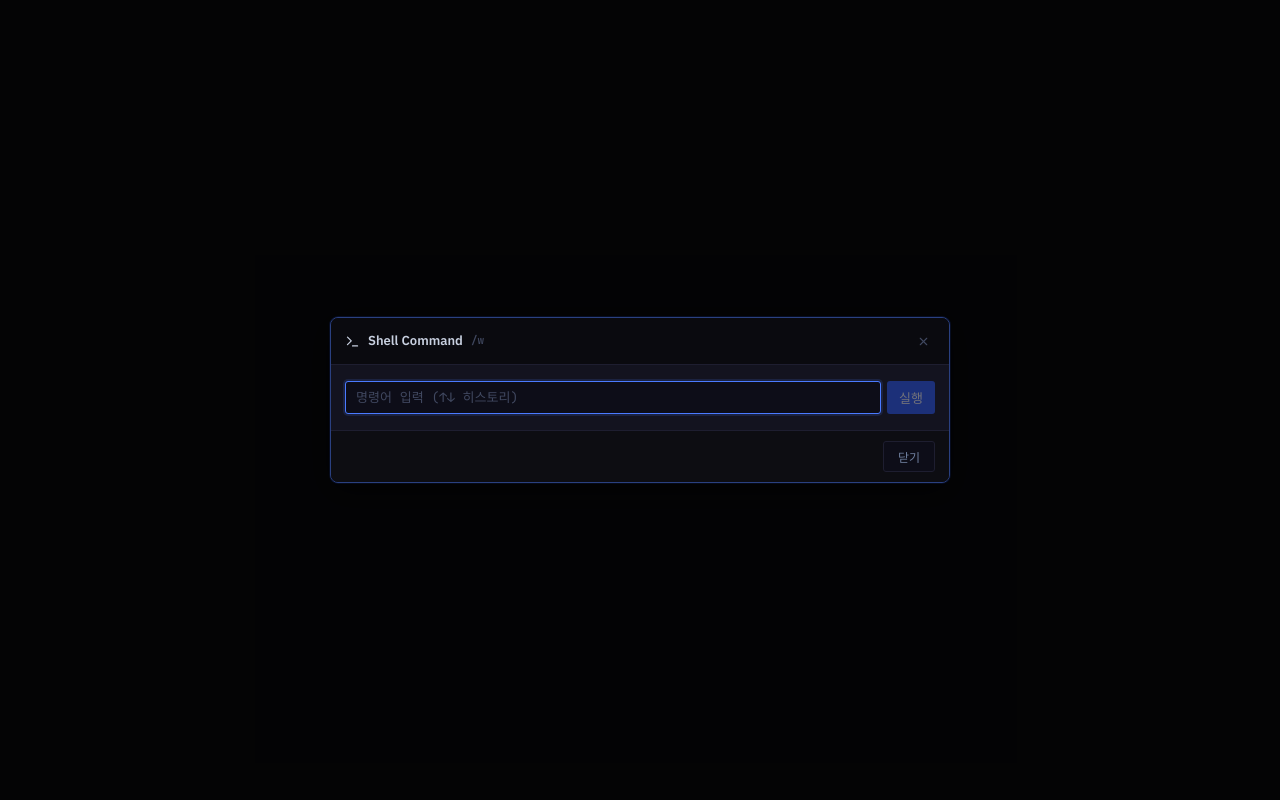
Test: ShellCommandDialog 커버리지 › SH-03: 빈 출력은 "(출력 없음)"
In the field: point(613, 398) [345, 381, 881, 414], type "true"
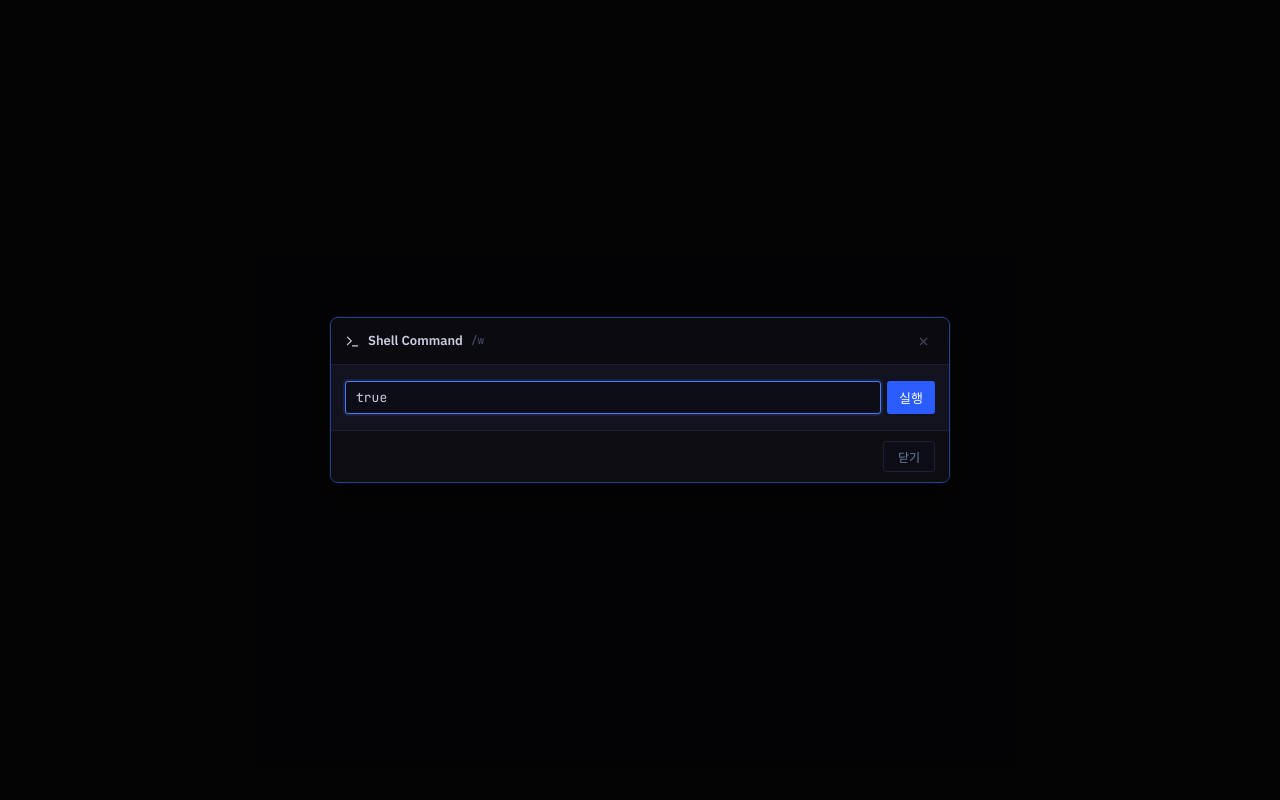
Submit the form, box [331, 365, 949, 482]
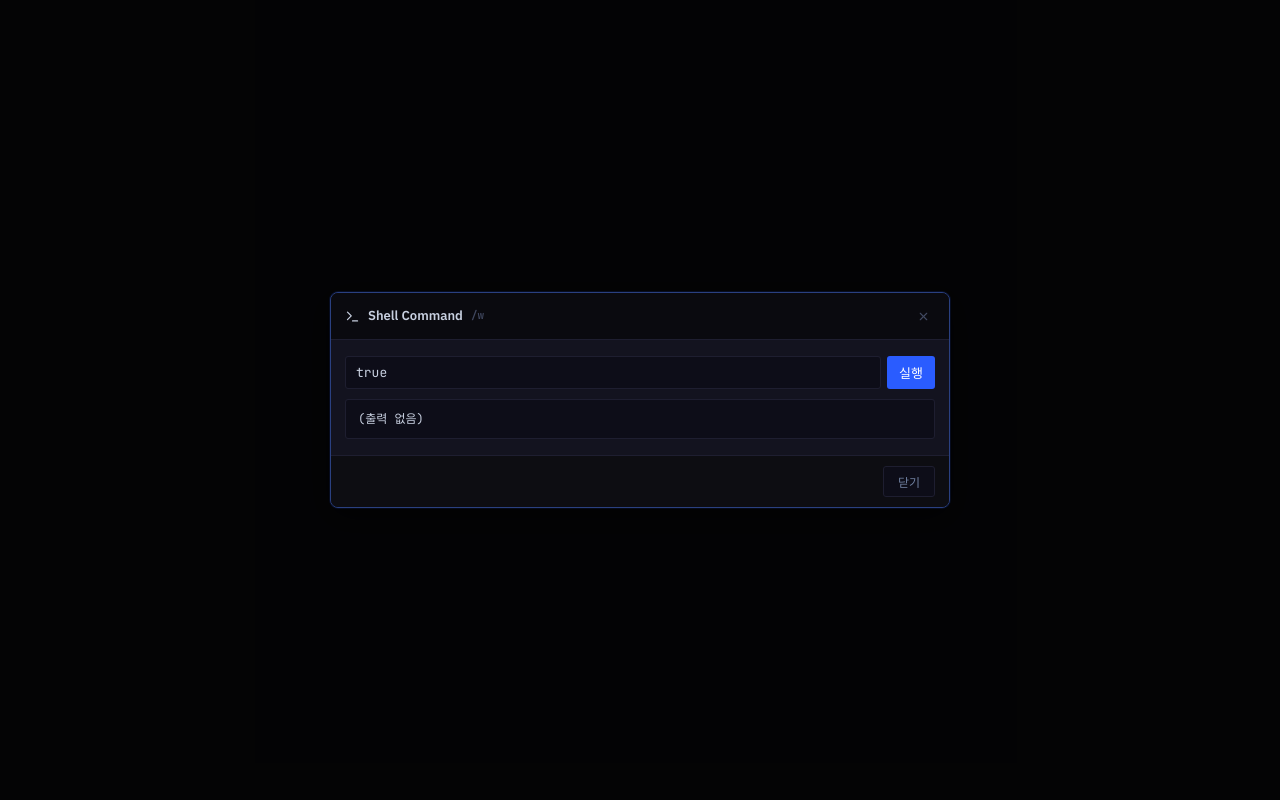
expect the text "(출력 없음)" is shown: met, box [345, 399, 935, 439]
